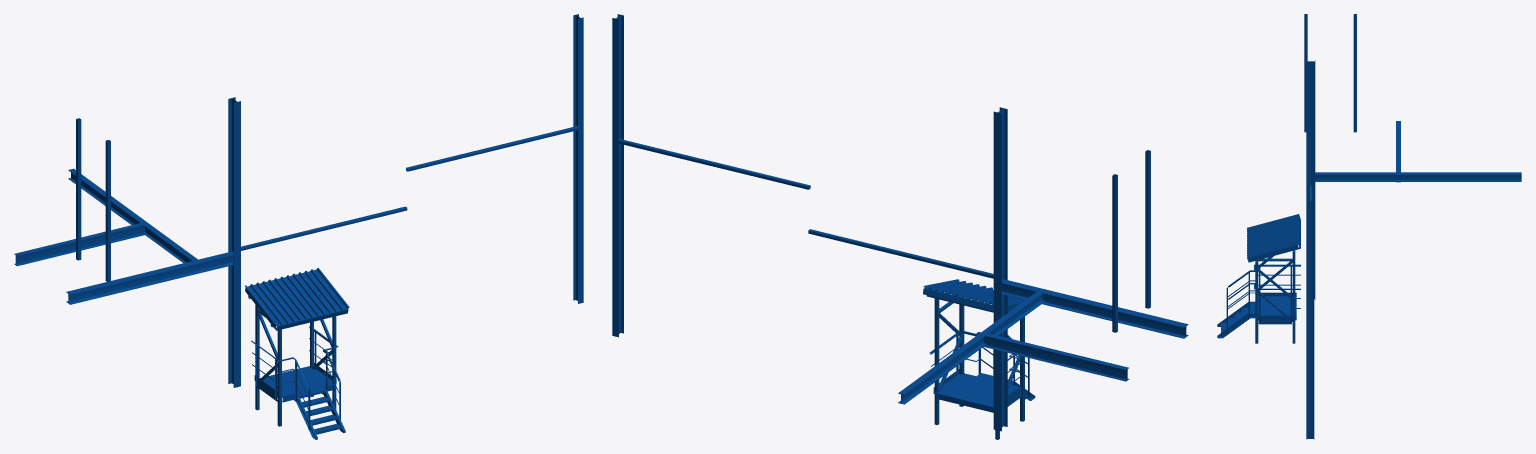
The model's file is GCC-AAV-13220-30.nwd(2).fbx.
3 renders of one model, left to right at view 1: azimuth 30°, elevation 25°; view 2: azimuth 150°, elevation 25°; view 3: azimuth 270°, elevation 25°, orthographic. The views are drawn at different scales.
Visible parts, largest first — view 1: GENSEC 1 of SBFRAMEWORK /13220-BD-001-311-5207/CS/KM1/K/ROW_ (×2), GENSEC 3 of SBFRAMEWORK /13220-BD-001-311-5207/CS/KM1/B/+5.1, Группа фасетов (×2), GENSEC 2 of SBFRAMEWORK /13220-BD-001-311-5207/CS/KM1/B/+5.1, GENSEC 1 of SBFRAMEWORK /13220-BD-001-311-5207/CS/KM1/B/+5.2, PANEL 112 of SBFRAMEWORK /09.02, PANEL 111 of SBFRAMEWORK /09.02, PANEL 110 of SBFRAMEWORK /09.02, PANEL 109 of SBFRAMEWORK /09.02, GENSEC 24 of SBFRAMEWORK /13220-BD-001-311-5207/CS/KM1/РС/+6, GENSEC 1 of SBFRAMEWORK /13220-BD-001-311-5207/CS/KM1/РС/+5.; view 2: GENSEC 1 of SBFRAMEWORK /13220-BD-001-311-5207/CS/KM1/K/ROW_ (×2), GENSEC 3 of SBFRAMEWORK /13220-BD-001-311-5207/CS/KM1/B/+5.1, GENSEC 1 of SBFRAMEWORK /13220-BD-001-311-5207/CS/KM1/B/+5.2, GENSEC 2 of SBFRAMEWORK /13220-BD-001-311-5207/CS/KM1/B/+5.1, Группа фасетов (×2), PANEL 109 of SBFRAMEWORK /09.02, GENSEC 24 of SBFRAMEWORK /13220-BD-001-311-5207/CS/KM1/РС/+6, GENSEC 1 of SBFRAMEWORK /13220-BD-001-311-5207/CS/KM1/РС/+5., GENSEC 342 of SBFRAMEWORK /09.02; view 3: GENSEC 1 of SBFRAMEWORK /13220-BD-001-311-5207/CS/KM1/K/ROW_ (×2), GENSEC 1 of SBFRAMEWORK /13220-BD-001-311-5207/CS/KM1/B/+5.2, Группа фасетов (×2), PANEL 109 of SBFRAMEWORK /09.02, PANEL 112 of SBFRAMEWORK /09.02, PANEL 110 of SBFRAMEWORK /09.02, PANEL 111 of SBFRAMEWORK /09.02, GENSEC 342 of SBFRAMEWORK /09.02, GENSEC 340 of SBFRAMEWORK /09.02.
Part boxes in pixels (box(x1,y1,x2,y2)): GENSEC 1 of SBFRAMEWORK /13220-BD-001-311-5207/CS/KM1/K/ROW_ (×2): box(228, 14, 583, 387); GENSEC 3 of SBFRAMEWORK /13220-BD-001-311-5207/CS/KM1/B/+5.1: box(66, 251, 233, 304); Группа фасетов (×2): box(76, 118, 110, 281); GENSEC 2 of SBFRAMEWORK /13220-BD-001-311-5207/CS/KM1/B/+5.1: box(14, 222, 144, 266); GENSEC 1 of SBFRAMEWORK /13220-BD-001-311-5207/CS/KM1/B/+5.2: box(68, 168, 199, 263); PANEL 112 of SBFRAMEWORK /09.02: box(293, 268, 349, 314); PANEL 111 of SBFRAMEWORK /09.02: box(245, 280, 299, 326); PANEL 110 of SBFRAMEWORK /09.02: box(269, 275, 325, 320); PANEL 109 of SBFRAMEWORK /09.02: box(254, 366, 333, 397); GENSEC 24 of SBFRAMEWORK /13220-BD-001-311-5207/CS/KM1/РС/+6: box(406, 126, 577, 171); GENSEC 1 of SBFRAMEWORK /13220-BD-001-311-5207/CS/KM1/РС/+5.: box(241, 206, 407, 250); GENSEC 1 of SBFRAMEWORK /13220-BD-001-311-5207/CS/KM1/K/ROW_ (×2): box(612, 14, 1007, 431); GENSEC 3 of SBFRAMEWORK /13220-BD-001-311-5207/CS/KM1/B/+5.1: box(1002, 279, 1188, 338); GENSEC 1 of SBFRAMEWORK /13220-BD-001-311-5207/CS/KM1/B/+5.2: box(898, 290, 1045, 404); GENSEC 2 of SBFRAMEWORK /13220-BD-001-311-5207/CS/KM1/B/+5.1: box(982, 332, 1128, 381); Группа фасетов (×2): box(1112, 150, 1150, 332); PANEL 109 of SBFRAMEWORK /09.02: box(933, 373, 1021, 408); GENSEC 24 of SBFRAMEWORK /13220-BD-001-311-5207/CS/KM1/РС/+6: box(619, 138, 810, 189); GENSEC 1 of SBFRAMEWORK /13220-BD-001-311-5207/CS/KM1/РС/+5.: box(808, 229, 993, 278); GENSEC 342 of SBFRAMEWORK /09.02: box(934, 298, 939, 424); GENSEC 1 of SBFRAMEWORK /13220-BD-001-311-5207/CS/KM1/K/ROW_ (×2): box(1306, 60, 1315, 439); GENSEC 1 of SBFRAMEWORK /13220-BD-001-311-5207/CS/KM1/B/+5.2: box(1315, 172, 1521, 181); Группа фасетов (×2): box(1304, 14, 1356, 132); PANEL 109 of SBFRAMEWORK /09.02: box(1258, 296, 1296, 320); PANEL 112 of SBFRAMEWORK /09.02: box(1247, 233, 1299, 258); PANEL 110 of SBFRAMEWORK /09.02: box(1247, 224, 1299, 247); PANEL 111 of SBFRAMEWORK /09.02: box(1247, 214, 1299, 237); GENSEC 342 of SBFRAMEWORK /09.02: box(1292, 251, 1295, 343); GENSEC 340 of SBFRAMEWORK /09.02: box(1255, 260, 1258, 343).
Bounding box in the file's own units: 705 × 401 × 435.
